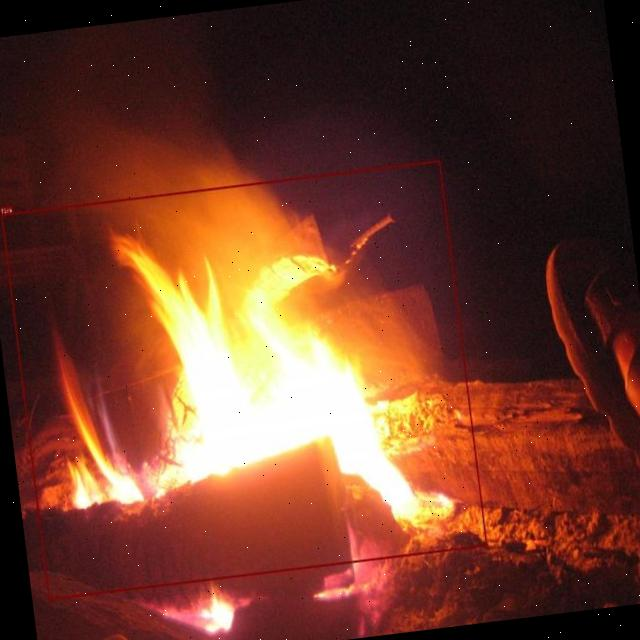fire: (1, 159, 487, 599)
